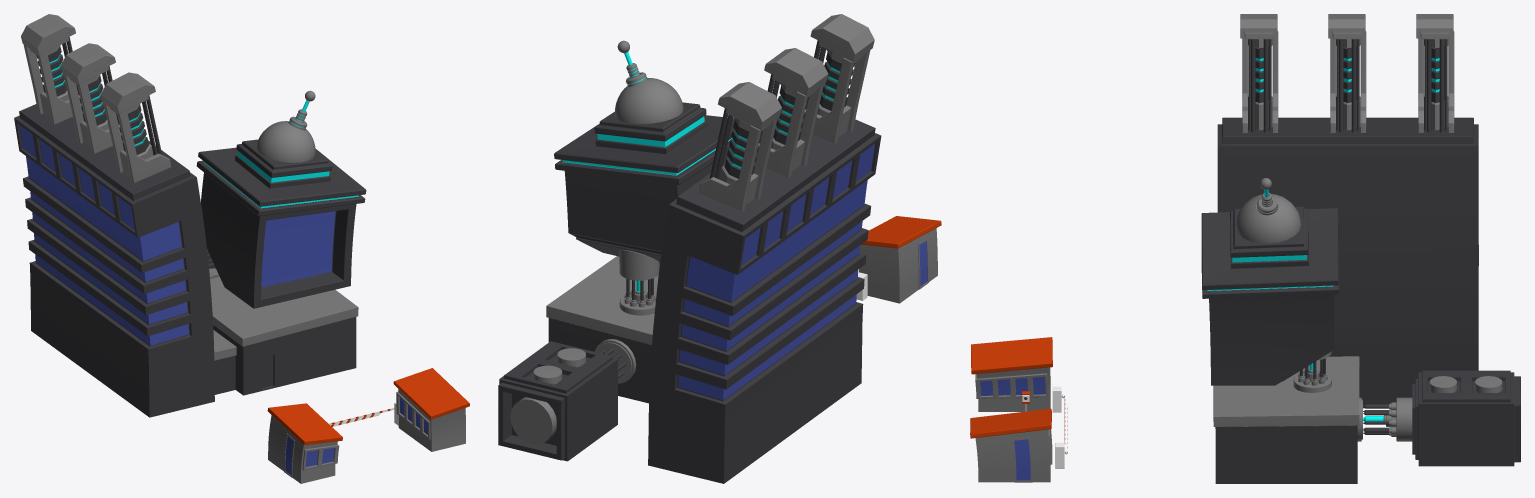
The model's file is safe haven building.fbx.
3 renders of one model, left to right at view 1: azimuth 30°, elevation 25°; view 2: azimuth 150°, elevation 25°; view 3: azimuth 270°, elevation 25°, orthographic. The views are drawn at different scales.
Parts seen in each view (by area): view 1: pCube2, pCube5, pCube3, pCube16, pCube7, pSphere1, pCube11, pCube22, pCube19, polySurface6, pCube6, polySurface5 (+7 smaller); view 2: pCube2, pCube5, pCube4, pCube3, pCube7, pSphere1, pCube19, pCube22, pCube11, polySurface3, pCylinder39, polySurface2 (+10 smaller); view 3: pCube2, pCube5, pCube3, pCube4, pCube7, pCube16, pSphere1, group2_pCylinder19, pCube11, pCube19, pCube22, pCylinder43 (+3 smaller).
Part boxes in pixels (<box>): pCube2: <box>14,104,214,417</box>; pCube5: <box>196,139,366,308</box>; pCube3: <box>210,277,358,395</box>; pCube16: <box>393,368,469,451</box>; pCube7: <box>267,403,342,483</box>; pSphere1: <box>256,100,315,162</box>; pCube11: <box>60,43,115,84</box>; pCube22: <box>100,72,155,113</box>; pCube19: <box>21,14,75,55</box>; polySurface6: <box>117,110,171,183</box>; pCube6: <box>213,330,236,394</box>; polySurface5: <box>77,81,123,153</box>; pCube2: <box>648,119,881,483</box>; pCube5: <box>554,102,734,265</box>; pCube4: <box>498,341,617,461</box>; pCube3: <box>546,256,658,403</box>; pCube7: <box>859,216,941,303</box>; pSphere1: <box>615,52,683,123</box>; pCube19: <box>718,82,781,130</box>; pCube22: <box>810,14,874,62</box>; pCube11: <box>764,48,828,95</box>; polySurface3: <box>698,125,761,211</box>; pCylinder39: <box>510,397,556,444</box>; polySurface2: <box>801,57,854,143</box>; pCube2: <box>1217,117,1478,408</box>; pCube5: <box>1201,206,1338,385</box>; pCube3: <box>1213,356,1359,483</box>; pCube4: <box>1412,370,1520,466</box>; pCube7: <box>971,337,1052,411</box>; pCube16: <box>970,408,1052,482</box>; pSphere1: <box>1235,189,1301,243</box>; group2_pCylinder19: <box>1363,402,1396,436</box>; pCube11: <box>1328,14,1365,39</box>; pCube19: <box>1416,14,1453,39</box>; pCube22: <box>1240,14,1277,39</box>; pCylinder43: <box>1396,397,1412,441</box>.
Bounding box in the file's own units: 801 × 1070 × 1495.
